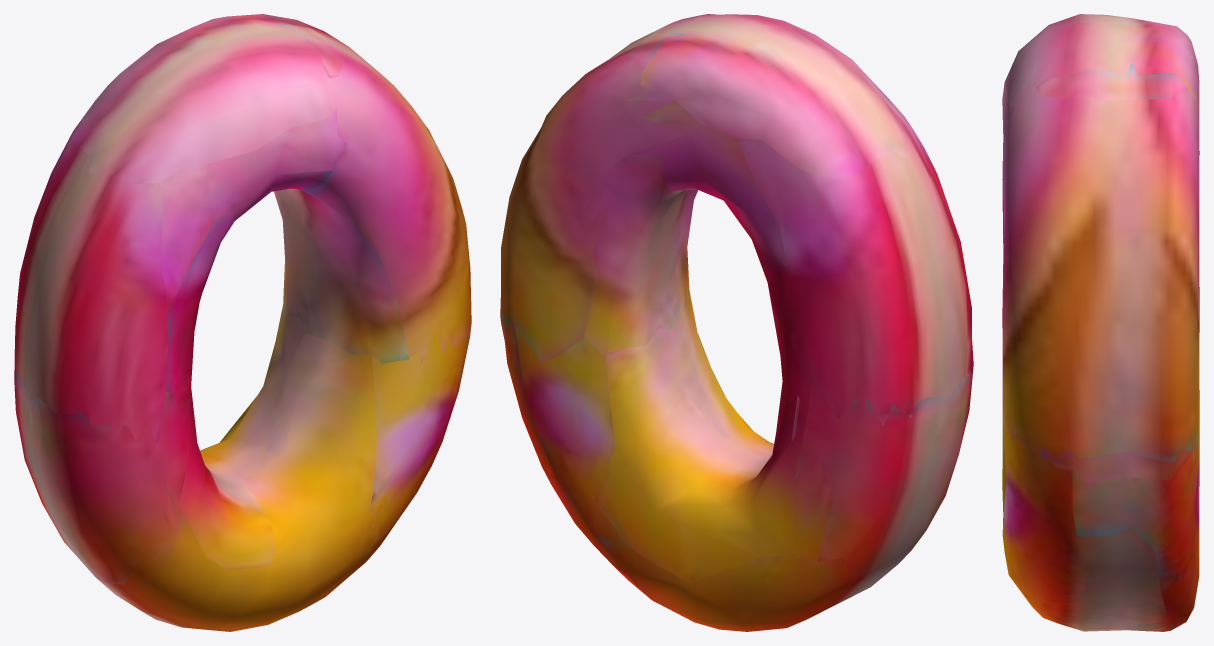
3 views of the same model, side by side, from view 1: azimuth 30°, elevation 25°; view 2: azimuth 150°, elevation 25°; view 3: azimuth 270°, elevation 25° (orthographic).
Visible parts, largest first — view 1: Candy-Letter-O; view 2: Candy-Letter-O; view 3: Candy-Letter-O.
Boxes of the visible parts, x1=… form: Candy-Letter-O: x1=14, y1=14, x2=471, y2=631; Candy-Letter-O: x1=500, y1=14, x2=973, y2=631; Candy-Letter-O: x1=1002, y1=14, x2=1199, y2=631.
Size of the model in its own units: 0.266 by 0.3465 by 0.1053.
1 material, 1 textured.
